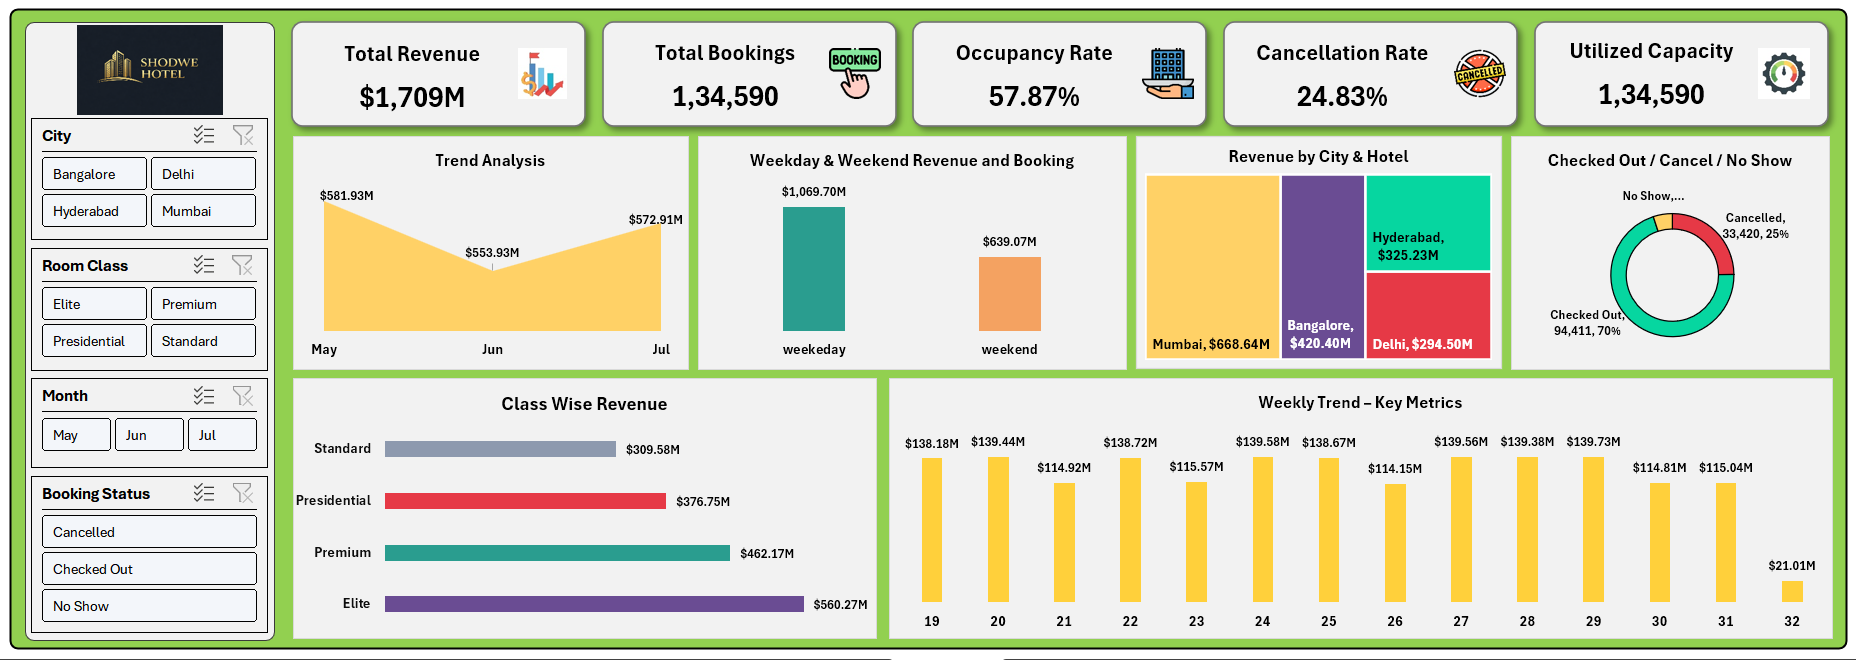

What the dashboard file says about the page in this screenshot:
{"tool":"tableau","page":{"name":"Dashboard","canvas":[1250,680],"ordinal":0},"visuals":[{"type":"image","param":"Image/Title Image.png","box":[49,3,833,88]},{"type":"image","param":"Image/SHODWE HOTEL.png","box":[993,7,210,113]},{"type":"text","box":[50,21,831,51]},{"type":"worksheet","title":"1","mark":"Automatic","box":[6,95,177,70]},{"type":"worksheet","title":"2","mark":"Automatic","box":[190,95,180,70]},{"type":"worksheet","title":"3","mark":"Automatic","box":[377,95,180,70]},{"type":"worksheet","title":"5","mark":"Automatic","box":[754,95,180,70]},{"type":"worksheet","title":"4","mark":"Automatic","box":[563,96,180,70]},{"type":"worksheet","title":"8","mark":"Square","rows":["property_name","city"],"box":[941,128,312,547]},{"type":"worksheet","title":"10","mark":"Automatic","box":[6,170,327,217]},{"type":"worksheet","title":"6","mark":"Area","rows":["revenue_realized"],"cols":["check_in_date"],"box":[338,170,340,185]},{"type":"worksheet","title":"7","mark":"Automatic","rows":["booking_id","booking_id"],"cols":["day_type"],"box":[685,170,250,185]},{"type":"worksheet","title":"11","mark":"Automatic","rows":["revenue_realized","revenue_realized"],"cols":["week no"],"box":[339,360,597,315]},{"type":"worksheet","title":"9","mark":"Pie","rows":["Calculation_0478381838295051","Calculation_0478381838295051"],"box":[6,392,327,283]}]}

Visuals, with their boxes on the page's 1250x680 design canvas (x1, y1, x2, y2). These are canvas units, not pixel positions in the 1856x660 screenshot, which may show the page scaled, cropped or inside an application window:
image: rect(49, 3, 882, 91)
image: rect(993, 7, 1203, 120)
text: rect(50, 21, 881, 72)
"1" worksheet: rect(6, 95, 183, 165)
"2" worksheet: rect(190, 95, 370, 165)
"3" worksheet: rect(377, 95, 557, 165)
"5" worksheet: rect(754, 95, 934, 165)
"4" worksheet: rect(563, 96, 743, 166)
"8" worksheet (Square marks): rect(941, 128, 1253, 675)
"10" worksheet: rect(6, 170, 333, 387)
"6" worksheet (Area marks): rect(338, 170, 678, 355)
"7" worksheet: rect(685, 170, 935, 355)
"11" worksheet: rect(339, 360, 936, 675)
"9" worksheet (Pie marks): rect(6, 392, 333, 675)
